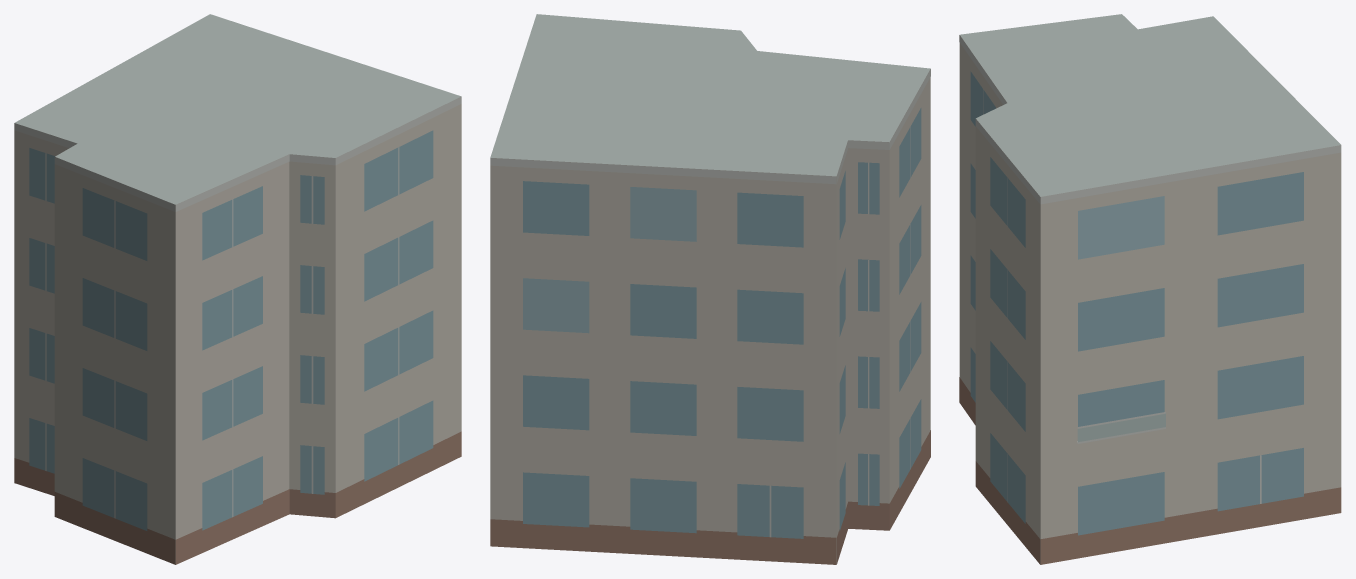
File: survey-upis-32644207.glb
3 renders of one model, left to right at view 1: azimuth 30°, elevation 25°; view 2: azimuth 150°, elevation 25°; view 3: azimuth 270°, elevation 25°, orthographic. The views are drawn at different scales.
Parts seen in each view (by area): view 1: survey-upis-32644207.tmp; view 2: survey-upis-32644207.tmp; view 3: survey-upis-32644207.tmp.
Boxes of the visible parts, x1,y1,x2,y2 form: survey-upis-32644207.tmp: (14,14,461,564); survey-upis-32644207.tmp: (490,14,930,564); survey-upis-32644207.tmp: (959,14,1341,564).
Size of the model in its own units: 12.81 by 12 by 11.3.
